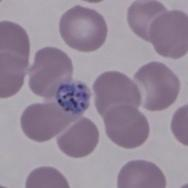Infected: (56, 79, 91, 113)
Uninfected: (129, 61, 180, 111), (58, 5, 108, 52), (21, 99, 74, 143), (28, 47, 73, 98), (93, 71, 140, 117), (104, 104, 149, 149), (149, 10, 188, 58), (127, 0, 169, 41), (58, 117, 98, 159), (117, 159, 167, 188), (0, 20, 30, 66), (0, 50, 26, 99)
